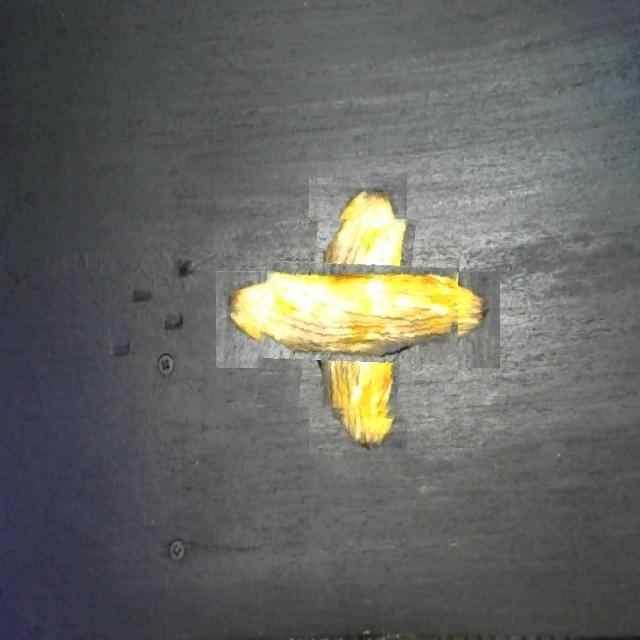biodegradable: (258, 219, 459, 419)
